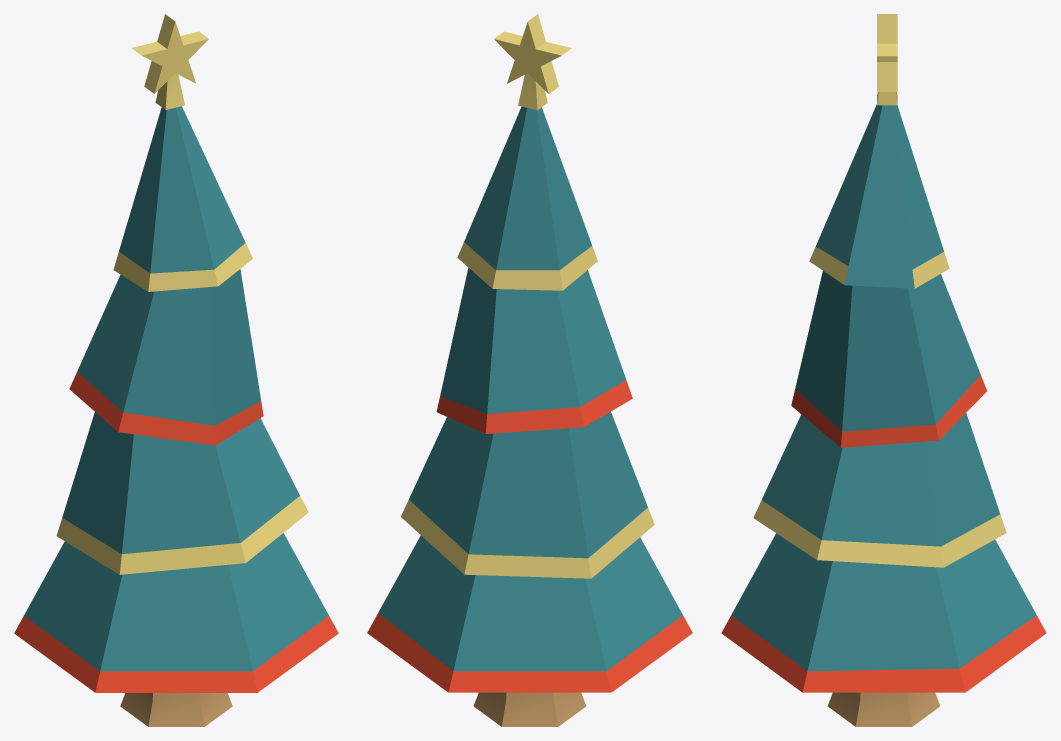
Rendered from treeDecorated.fbx.
3 renders of one model, left to right at view 1: azimuth 30°, elevation 25°; view 2: azimuth 150°, elevation 25°; view 3: azimuth 270°, elevation 25°, orthographic.
Parts seen in each view (by area): view 1: treeDecorated, star; view 2: treeDecorated, star; view 3: treeDecorated, star.
Part boxes in pixels (<box>): treeDecorated: <box>14,106,338,726</box>; star: <box>131,14,208,109</box>; treeDecorated: <box>367,106,692,726</box>; star: <box>494,14,571,110</box>; treeDecorated: <box>721,104,1046,726</box>; star: <box>877,14,897,105</box>.
Bounding box in the file's own units: 6.51 × 17.59 × 7.52.
